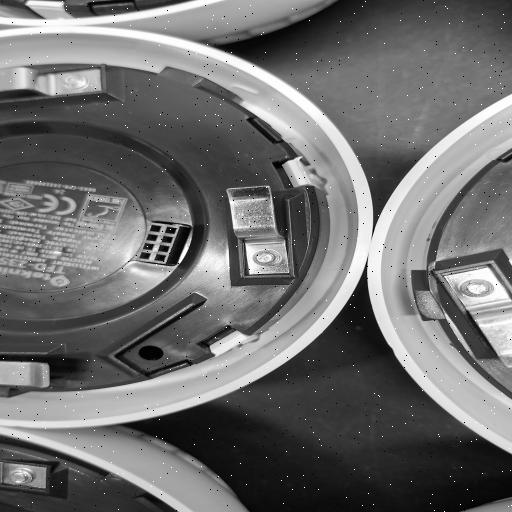konnektor: (127, 214, 196, 272)
yaysiz: (214, 175, 315, 290)
